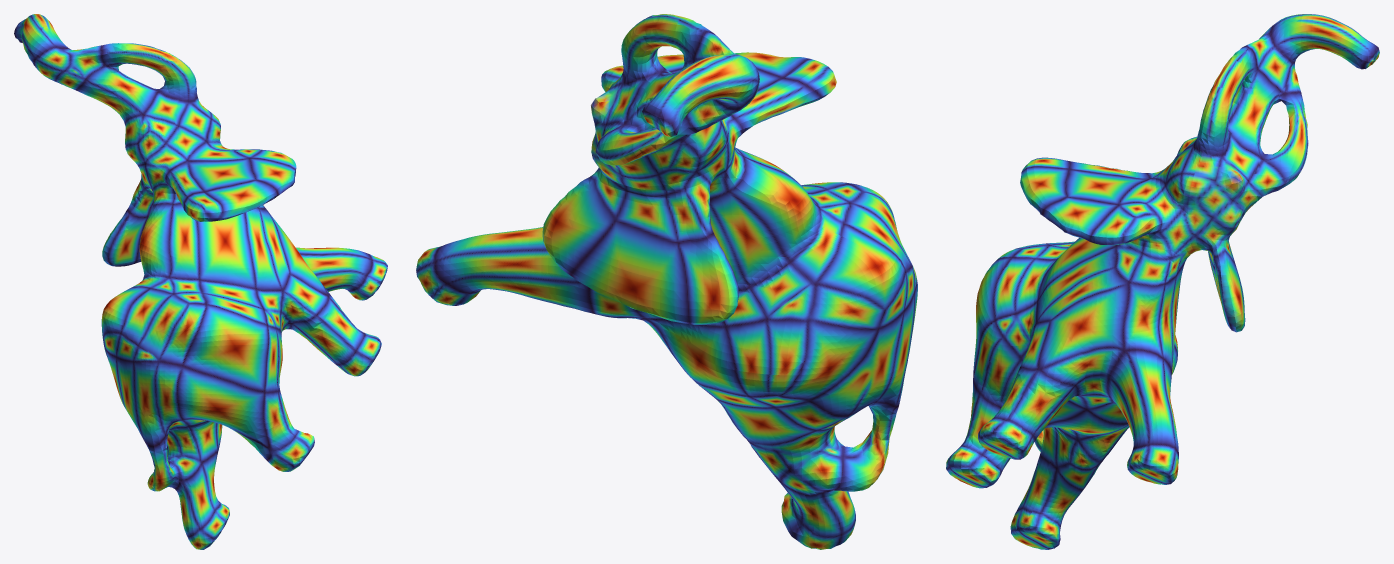
File: gen3.glb
3 renders of one model, left to right at view 1: azimuth 30°, elevation 25°; view 2: azimuth 150°, elevation 25°; view 3: azimuth 270°, elevation 25°, orthographic. The views are drawn at different scales.
Visible parts, largest first — view 1: Node; view 2: Node; view 3: Node.
Boxes of the visible parts, x1=… form: Node: x1=14, y1=14, x2=387, y2=549; Node: x1=416, y1=14, x2=917, y2=549; Node: x1=946, y1=14, x2=1379, y2=549.
Bounding box in the file's own units: 0.7021 × 0.9675 × 0.745.
1 material, 1 textured.
